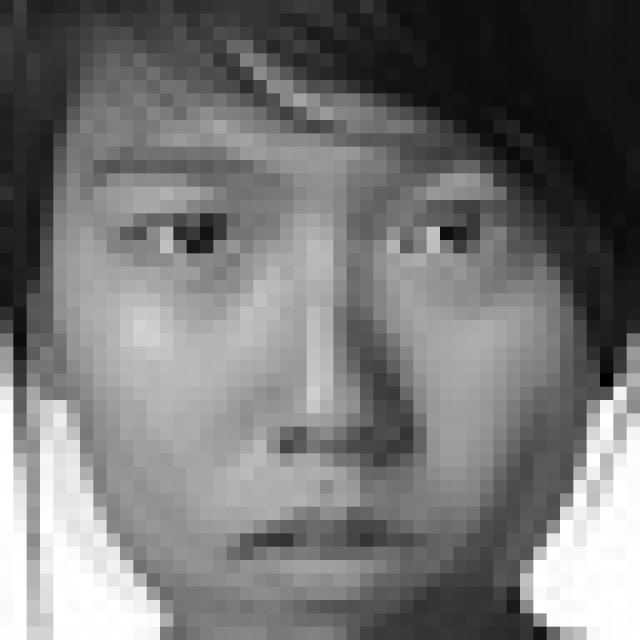neutral: (84, 130, 553, 607)
